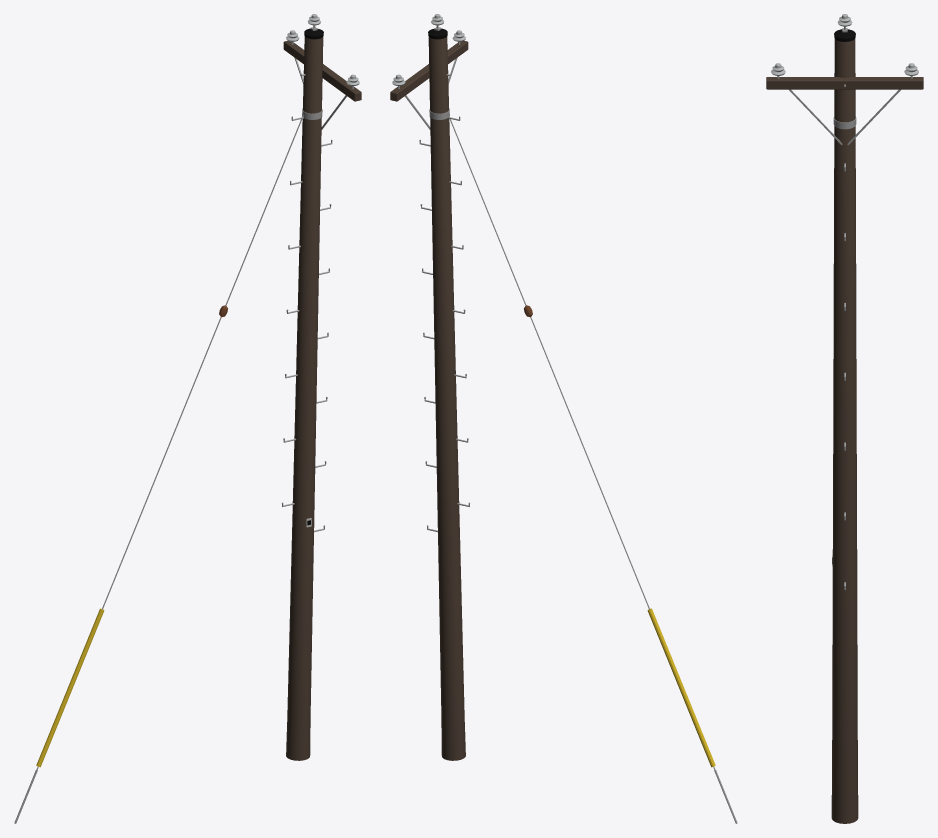
The model's file is energy.line.pole_stay.glb.
3 renders of one model, left to right at view 1: azimuth 30°, elevation 25°; view 2: azimuth 150°, elevation 25°; view 3: azimuth 270°, elevation 25°, orthographic. The views are drawn at different scales.
Parts seen in each view (by area): view 1: main__timber_543, main__steel_aaa, main__enamel_db2, main__galv_aaa; view 2: main__timber_543, main__steel_aaa, main__enamel_db2, main__galv_aaa; view 3: main__timber_543, main__galv_aaa, main__glaze_bbb.
Boxes of the visible parts, bbox=[...] form: main__timber_543: bbox=[283, 36, 361, 760]; main__steel_aaa: bbox=[14, 25, 353, 823]; main__enamel_db2: bbox=[36, 608, 104, 767]; main__galv_aaa: bbox=[282, 27, 347, 532]; main__timber_543: bbox=[390, 36, 468, 760]; main__steel_aaa: bbox=[398, 25, 737, 823]; main__enamel_db2: bbox=[647, 608, 715, 767]; main__galv_aaa: bbox=[404, 27, 469, 532]; main__timber_543: bbox=[766, 38, 923, 823]; main__galv_aaa: bbox=[789, 28, 900, 589]; main__glaze_bbb: bbox=[771, 14, 918, 75].
Size of the model in its own units: 4.37 by 9.69 by 1.7.
